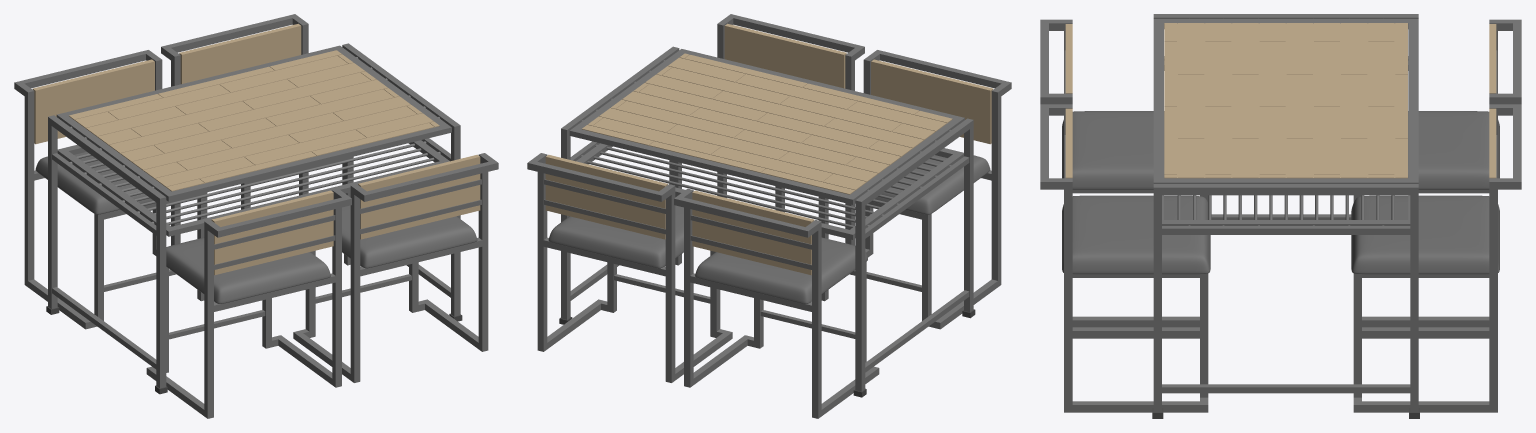
Rendered from 598_ダイニングテーブルセット4人掛け.glb.
3 views of the same model, side by side, from view 1: azimuth 30°, elevation 25°; view 2: azimuth 150°, elevation 25°; view 3: azimuth 270°, elevation 25° (orthographic). The views are drawn at different scales.
Visible parts, largest first — view 1: Body, chair3, chair4, chair1, chair2; view 2: Body, chair1, chair2, chair3, chair4; view 3: Body, chair4, chair2, chair3, chair1.
Boxes of the visible parts, left/top/right/bottom form: Body: left=46, top=43, right=462, bottom=394; chair3: left=146, top=188, right=351, bottom=418; chair4: left=293, top=153, right=498, bottom=382; chair1: left=14, top=50, right=207, bottom=329; chair2: left=161, top=14, right=353, bottom=265; Body: left=559, top=46, right=975, bottom=397; chair1: left=674, top=188, right=879, bottom=418; chair2: left=527, top=153, right=732, bottom=382; chair3: left=818, top=50, right=1011, bottom=329; chair4: left=672, top=14, right=864, bottom=265; Body: left=1152, top=14, right=1419, bottom=418; chair4: left=1040, top=104, right=1210, bottom=412; chair2: left=1351, top=104, right=1521, bottom=412; chair3: left=1040, top=19, right=1207, bottom=327; chair1: left=1353, top=19, right=1521, bottom=327.
Size of the model in its own units: 1.22 by 0.752 by 1.42.
